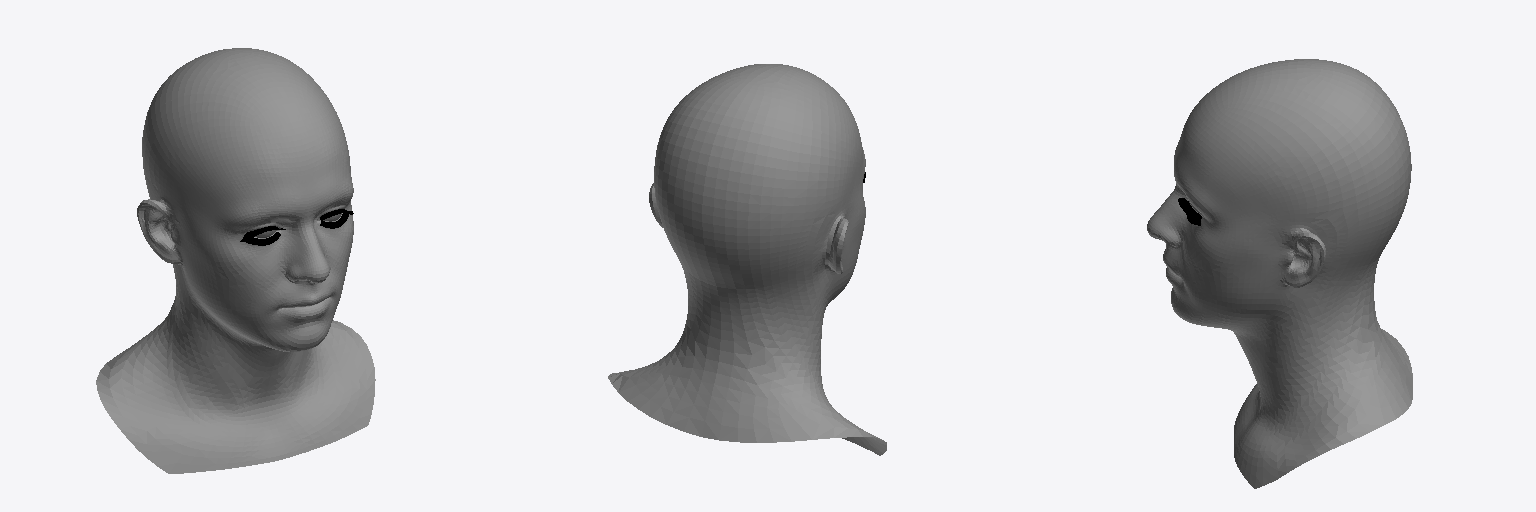
Rendered from identity004.obj.
3 renders of one model, left to right at view 1: azimuth 30°, elevation 25°; view 2: azimuth 150°, elevation 25°; view 3: azimuth 270°, elevation 25°, orthographic.
Size of the model in its own units: 25.06 by 34.32 by 22.08.